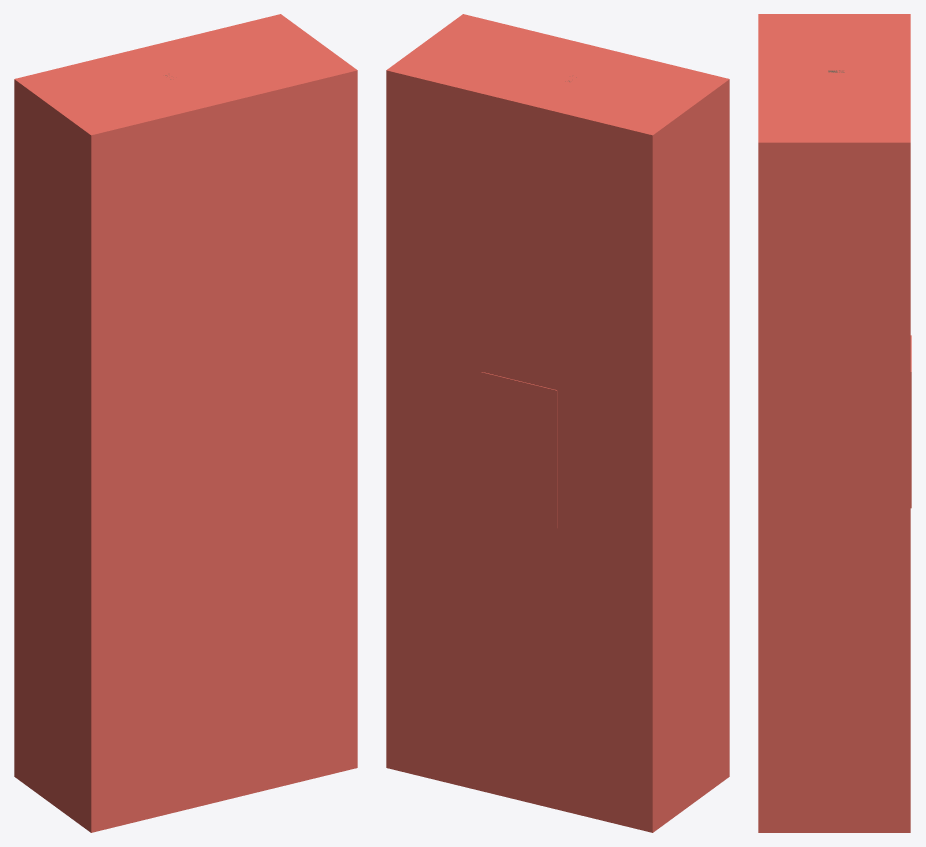
The model's file is vehicle.glb.
The picture shows the model from 3 angles, left to right: view 1: azimuth 30°, elevation 25°; view 2: azimuth 150°, elevation 25°; view 3: azimuth 270°, elevation 25°; orthographic projection.
Parts seen in each view (by area): view 1: Kocka; view 2: Kocka, Kocka.001; view 3: Kocka, Kocka.001.
Part boxes in pixels (x1=…): Kocka: x1=14, y1=14, x2=357, y2=832; Kocka: x1=386, y1=14, x2=729, y2=832; Kocka.001: x1=481, y1=372, x2=557, y2=528; Kocka: x1=758, y1=14, x2=910, y2=832; Kocka.001: x1=910, y1=335, x2=911, y2=508.
Size of the model in its own units: 8.1 by 20.25 by 4.08.
